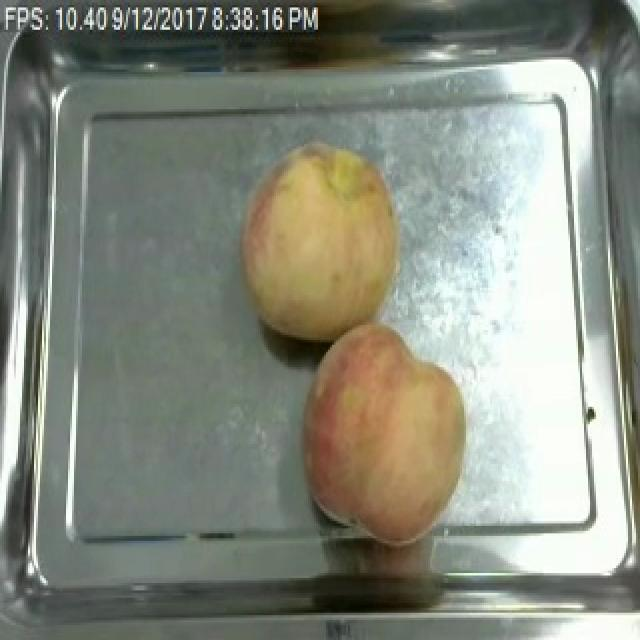Fruit: (294, 315, 478, 548), (232, 131, 412, 350)
